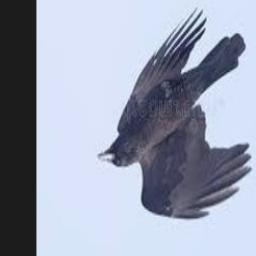Crow: (97, 10, 252, 223)
